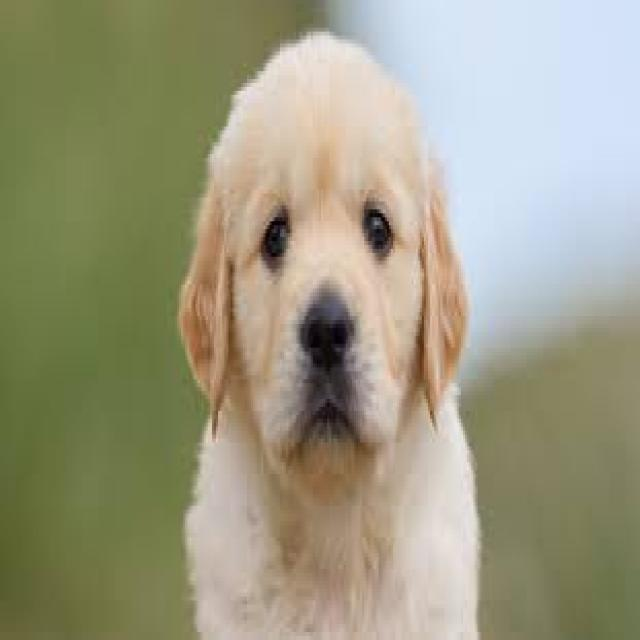dogs: (171, 8, 489, 636)
